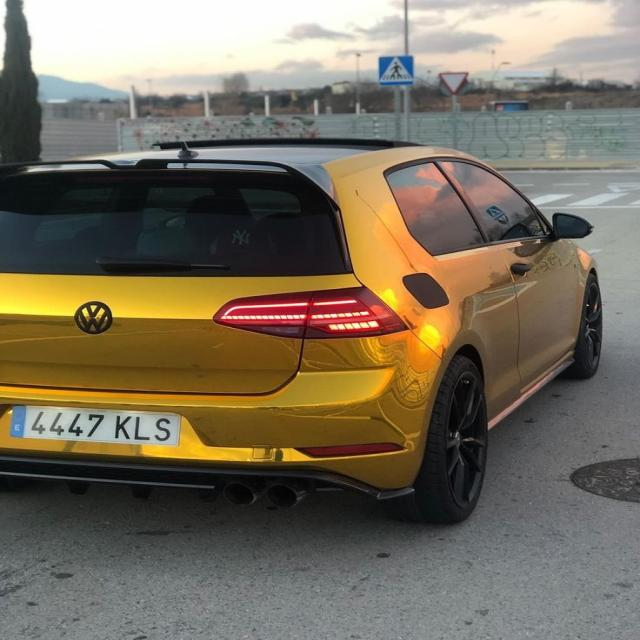Placas: (10, 402, 179, 448)
